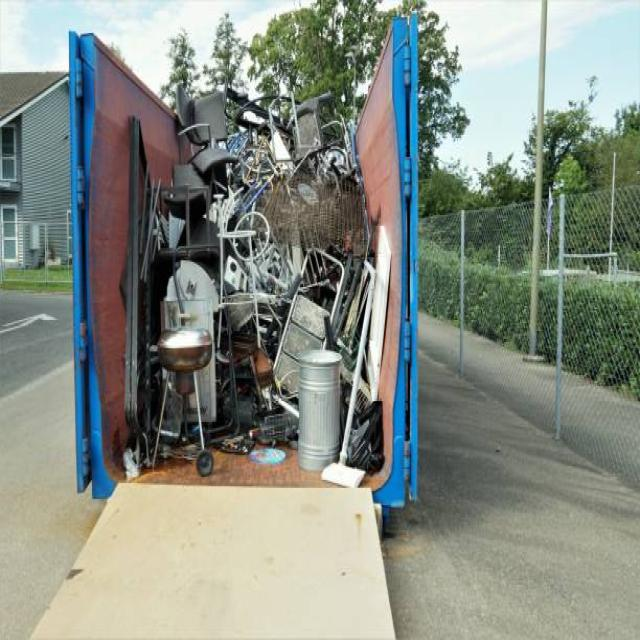metal: (128, 48, 349, 446)
